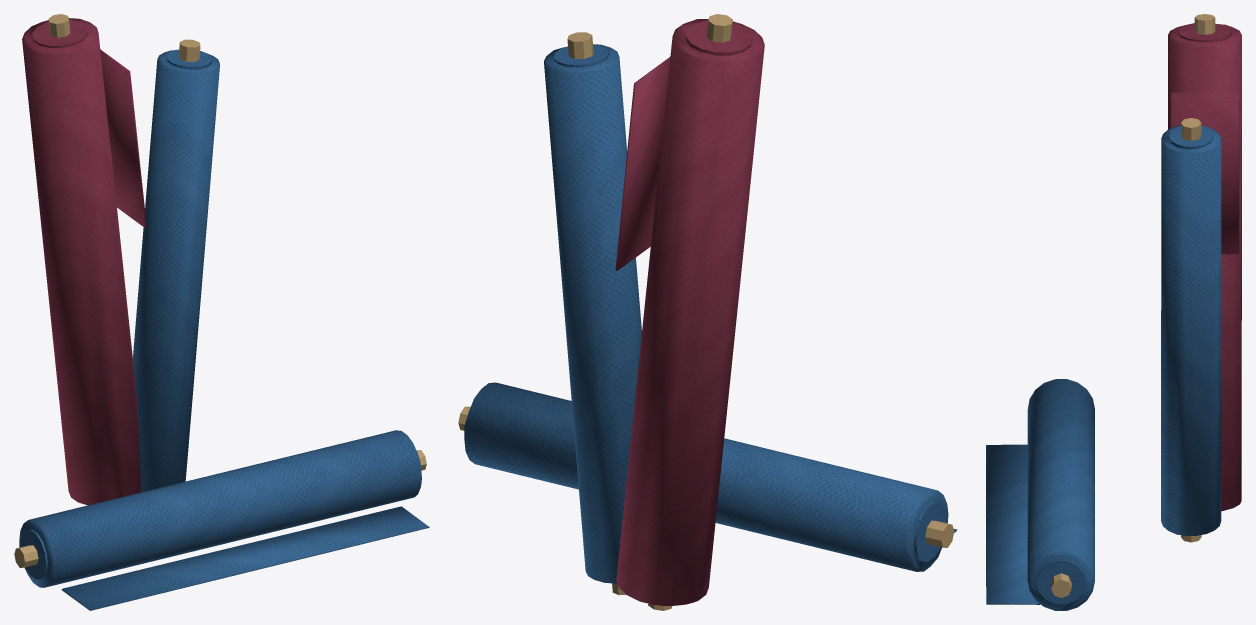
Rendered from rolos-de-tecido-leve.glb.
The picture shows the model from 3 angles, left to right: view 1: azimuth 30°, elevation 25°; view 2: azimuth 150°, elevation 25°; view 3: azimuth 270°, elevation 25°; orthographic projection. The views are drawn at different scales.
Parts seen in each view (by area): view 1: rolo-alto, rolo-deitado, rolo-medio, ponta-solta, ponta-pendurada, rolo-alto-volta, rolo-deitado-volta, rolo-deitado-miolo; view 2: rolo-alto, rolo-medio, rolo-deitado, ponta-pendurada, rolo-alto-volta, rolo-deitado-volta, rolo-deitado-miolo, rolo-alto-miolo, rolo-medio-miolo, rolo-medio-volta; view 3: rolo-medio, rolo-deitado, rolo-alto, ponta-solta, ponta-pendurada, rolo-deitado-volta, rolo-alto-volta, rolo-medio-volta, rolo-medio-miolo, rolo-alto-miolo, rolo-deitado-miolo.
Boxes of the visible parts, x1,y1,x2,y2 form: rolo-alto: (22,18,140,505); rolo-deitado: (19,430,421,587); rolo-medio: (133,50,219,492); ponta-solta: (61,506,429,610); ponta-pendurada: (100,49,146,228); rolo-alto-volta: (32,19,88,47); rolo-deitado-volta: (20,529,47,579); rolo-deitado-miolo: (14,450,426,567); rolo-alto: (616,19,764,606); rolo-medio: (544,44,641,583); rolo-deitado: (464,382,948,571); ponta-pendurada: (615,57,670,270); rolo-alto-volta: (685,21,752,55); rolo-deitado-volta: (914,502,946,561); rolo-deitado-miolo: (458,406,954,547); rolo-alto-miolo: (648,14,732,610); rolo-medio-miolo: (567,32,626,595); rolo-medio-volta: (554,44,616,583); rolo-medio: (1161,125,1221,535); rolo-deitado: (1027,379,1094,610); rolo-alto: (1168,23,1241,511); ponta-solta: (986,444,1040,604); ponta-pendurada: (1170,92,1239,254); rolo-deitado-volta: (1036,560,1085,604); rolo-alto-volta: (1178,23,1231,42); rolo-medio-volta: (1169,126,1213,149); rolo-medio-miolo: (1181,118,1201,542); rolo-alto-miolo: (1194,14,1215,34); rolo-deitado-miolo: (1051,573,1071,597).
Bounding box in the file's own units: 1.3 × 1.55 × 0.7486.
Materials: 3 (2 with a texture image).
